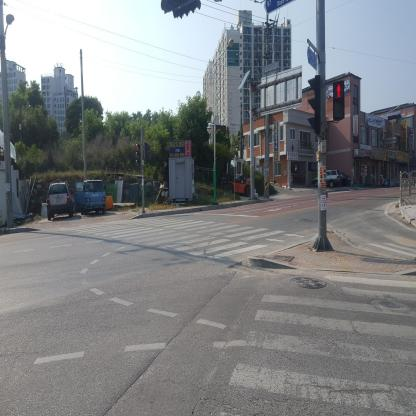Red: (333, 81, 345, 119)
